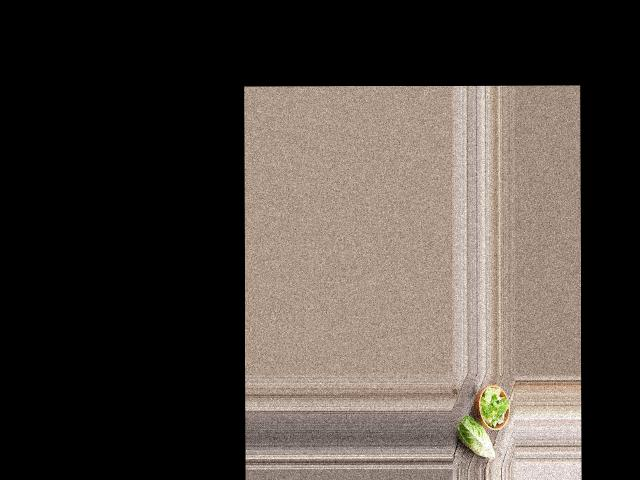lettuce: (455, 416, 495, 458)
